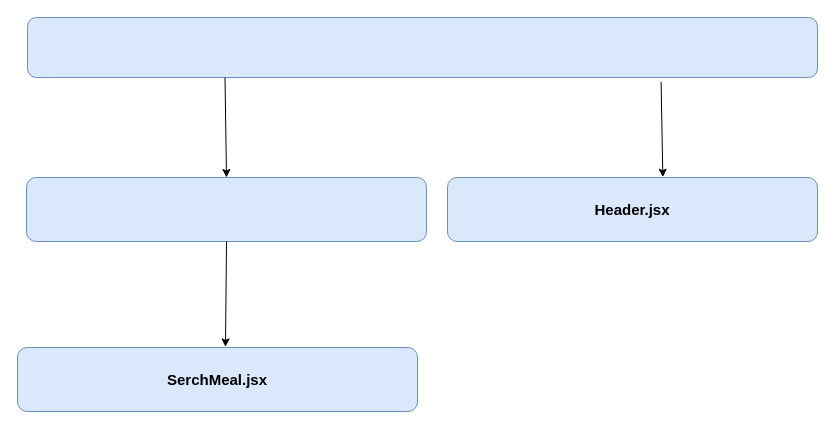
The diagram is 835 pixels wide and 429 high, and some of its shapes have lost their labels. The centre of each missing label's shape, as x and y in pixels:
"App.jsx" belongs at point 422,47.
"Home.jsx" belongs at point 226,209.
